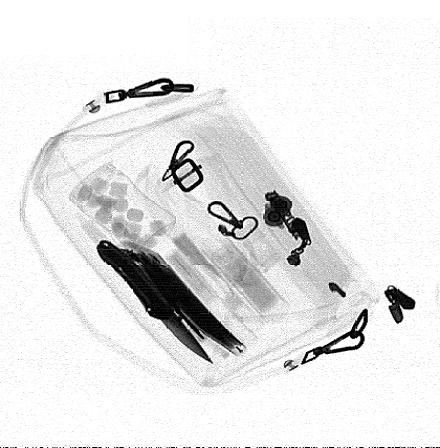Knife: (94, 238, 220, 365)
Powerbank: (116, 242, 250, 357)
Scissors: (102, 236, 211, 348)
